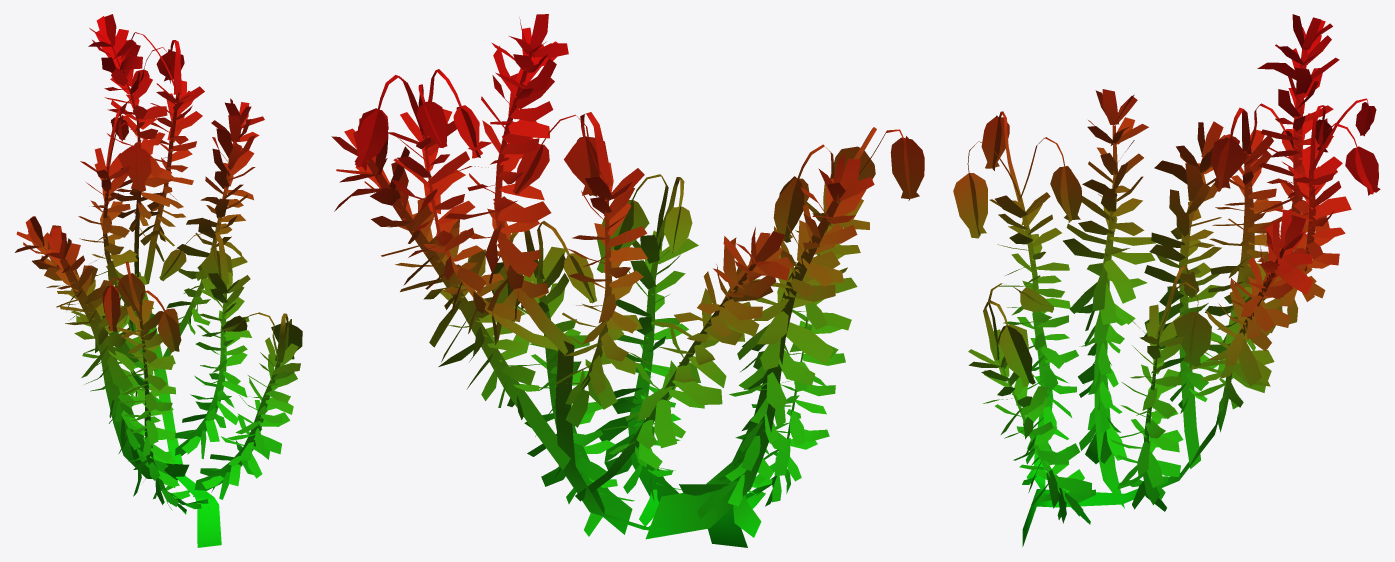
File: Var6_LOD2.fbx
3 renders of one model, left to right at view 1: azimuth 30°, elevation 25°; view 2: azimuth 150°, elevation 25°; view 3: azimuth 270°, elevation 25°, orthographic. The views are drawn at different scales.
Parts seen in each view (by area): view 1: _ziwr_Var6_LOD2; view 2: _ziwr_Var6_LOD2; view 3: _ziwr_Var6_LOD2.
Part boxes in pixels (left/top/right/bottom): _ziwr_Var6_LOD2: left=15, top=14, right=302, bottom=547; _ziwr_Var6_LOD2: left=331, top=14, right=924, bottom=547; _ziwr_Var6_LOD2: left=953, top=14, right=1380, bottom=546.
Bounding box in the file's own units: 16.15 × 23.6 × 17.03.
